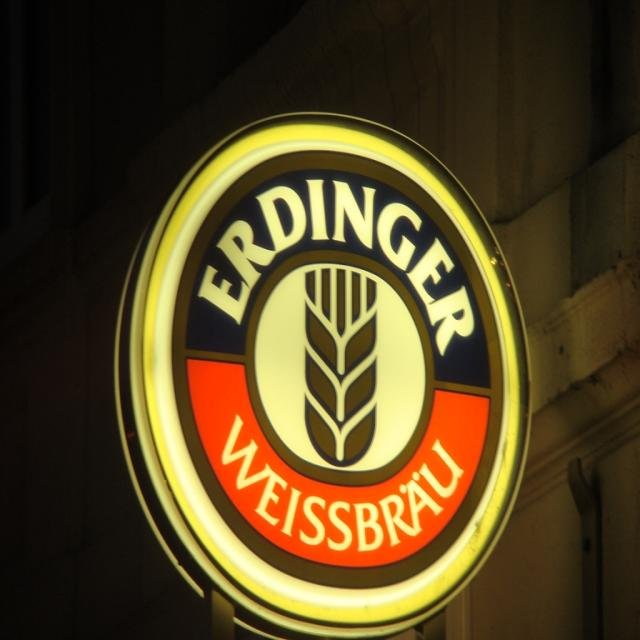erdinger: (134, 110, 526, 631)
